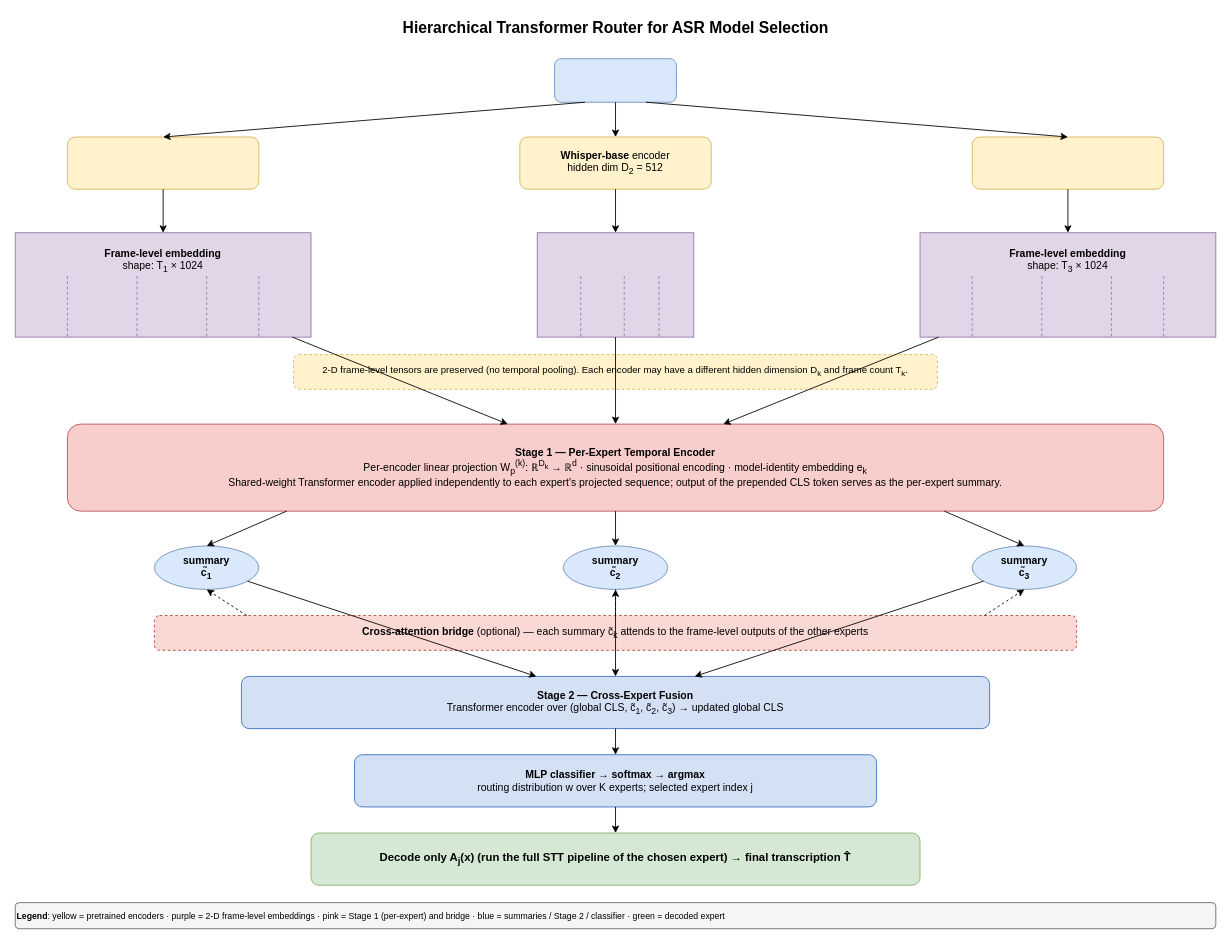
Image size: 1231x944. Some labels were removed from this diagram. Here are the shapes that lost their labels. From the top down, the centre of each, then its label:
At (615,80): "Audio clip x".
At (163,162): "HuBERT-Large encoder hidden dim D 1 = 1024".
At (1067,162): "W2V2-Large-Robust encoder hidden dim D 3 = 1024".
At (615,284): "Frame-level embedding shape: T 2 × 512".
